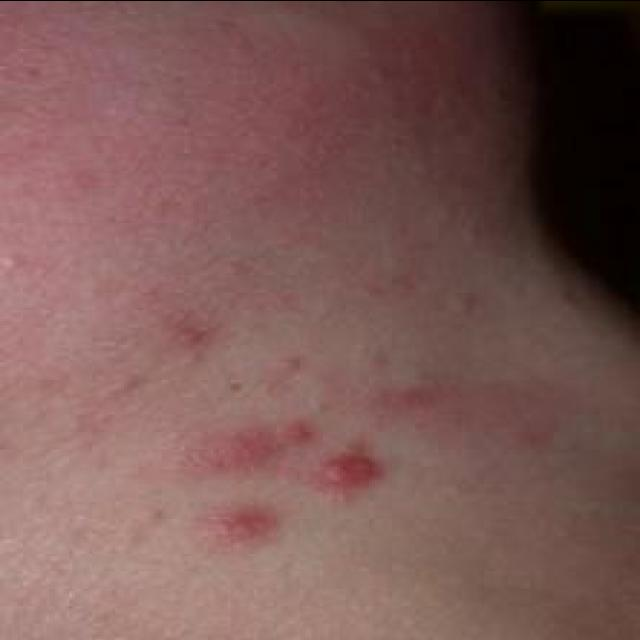Acne: (172, 428, 274, 478), (302, 448, 388, 507), (192, 504, 276, 550), (276, 412, 318, 448)
